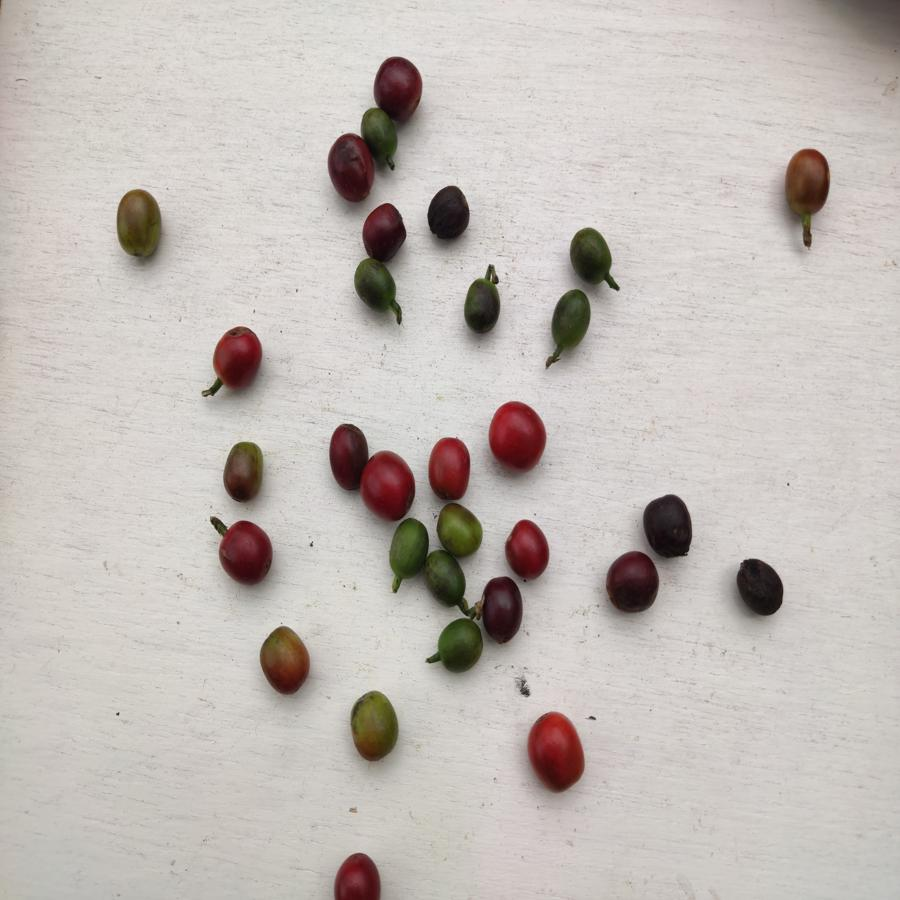Inmaduro: (566, 225, 618, 289), (549, 285, 595, 354), (351, 258, 399, 318), (425, 548, 470, 612), (438, 618, 485, 677), (462, 273, 504, 334), (386, 519, 427, 578), (364, 112, 398, 161)
Maduro: (527, 705, 590, 794), (356, 448, 424, 522), (490, 402, 548, 474), (211, 323, 267, 393), (424, 436, 482, 501), (502, 517, 552, 582), (326, 853, 387, 900)
Pinton: (345, 687, 401, 760), (779, 149, 830, 221), (256, 630, 312, 693), (116, 188, 163, 258), (220, 438, 264, 502), (437, 500, 485, 556)
Sobremaduro: (214, 521, 281, 588), (640, 495, 696, 560), (605, 552, 662, 613), (734, 553, 786, 619), (374, 53, 425, 119), (328, 133, 373, 206), (481, 577, 527, 644), (327, 424, 370, 490), (426, 184, 472, 241), (364, 202, 408, 259)
